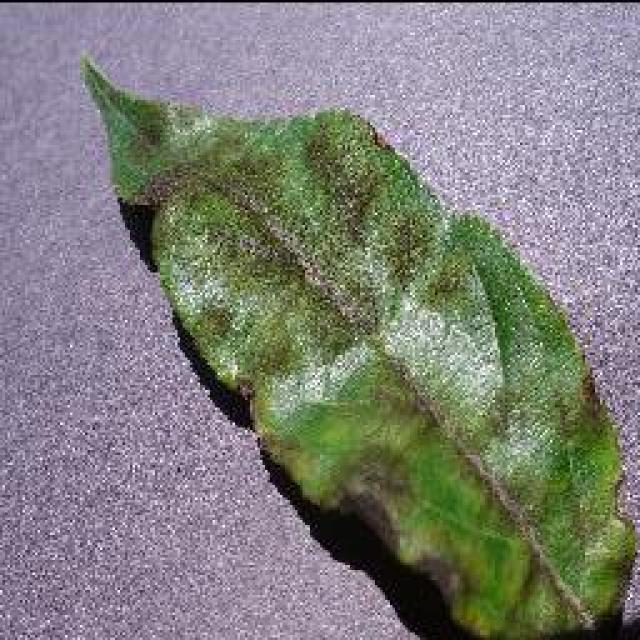apple scab disease: (75, 48, 637, 638)
